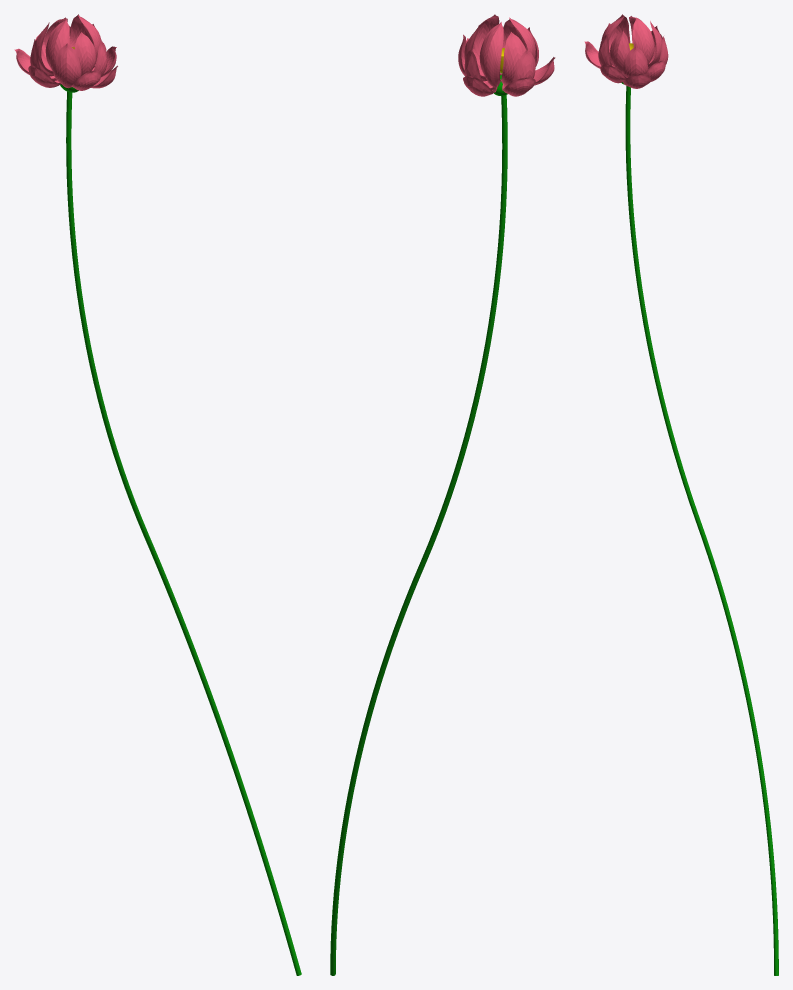
The model's file is Lotus052.fbx.
The picture shows the model from 3 angles, left to right: view 1: azimuth 30°, elevation 25°; view 2: azimuth 150°, elevation 25°; view 3: azimuth 330°, elevation 25°; orthographic projection. The views are drawn at different scales.
Visible parts, largest first — view 1: pCylinder5, nurbsToPoly16, nurbsToPoly21, nurbsToPoly18; view 2: pCylinder5, nurbsToPoly23, nurbsToPoly20; view 3: pCylinder5, nurbsToPoly22, nurbsToPoly13, nurbsToPoly18.
Boxes of the visible parts, left/top/right/bottom form: pCylinder5: left=66, top=91, right=301, bottom=975; nurbsToPoly16: left=53, top=43, right=81, bottom=88; nurbsToPoly21: left=45, top=19, right=69, bottom=71; nurbsToPoly18: left=74, top=32, right=96, bottom=75; pCylinder5: left=330, top=95, right=507, bottom=975; nurbsToPoly23: left=479, top=22, right=503, bottom=87; nurbsToPoly20: left=500, top=32, right=525, bottom=86; pCylinder5: left=625, top=86, right=778, bottom=975; nurbsToPoly22: left=633, top=17, right=654, bottom=64; nurbsToPoly13: left=622, top=46, right=648, bottom=77; nurbsToPoly18: left=609, top=31, right=629, bottom=72.
Size of the model in its own units: 52.42 by 204 by 24.3.
